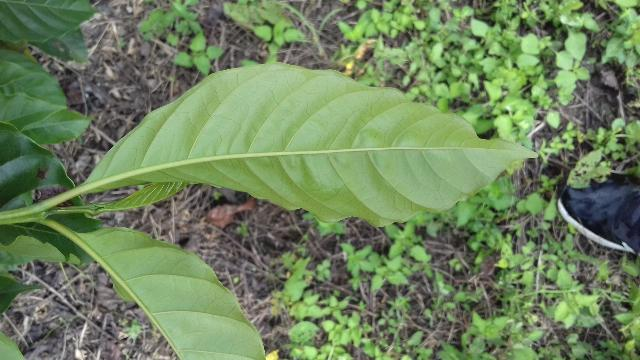healthy: (1, 65, 540, 226)
